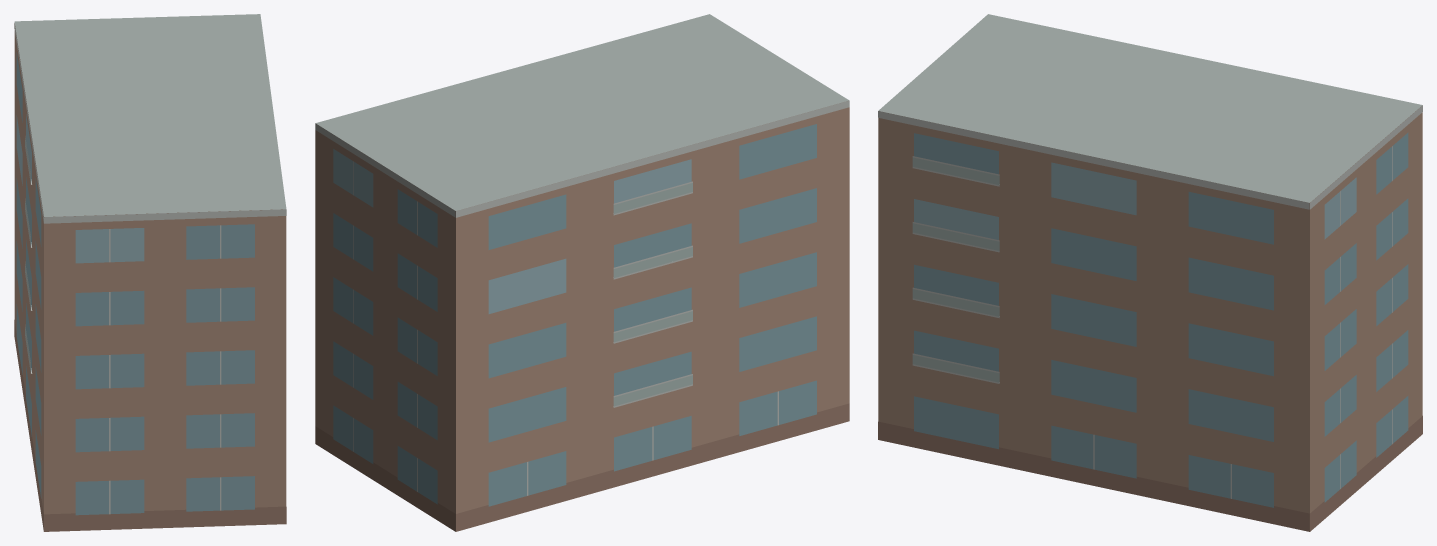
File: survey-upis-32889995.glb
3 renders of one model, left to right at view 1: azimuth 30°, elevation 25°; view 2: azimuth 150°, elevation 25°; view 3: azimuth 270°, elevation 25°, orthographic. The views are drawn at different scales.
Visible parts, largest first — view 1: survey-upis-32889995.tmp; view 2: survey-upis-32889995.tmp; view 3: survey-upis-32889995.tmp.
Boxes of the visible parts, x1=… form: survey-upis-32889995.tmp: x1=14, y1=14, x2=286, y2=531; survey-upis-32889995.tmp: x1=315, y1=14, x2=849, y2=531; survey-upis-32889995.tmp: x1=878, y1=14, x2=1422, y2=531.
Size of the model in its own units: 14.29 by 11.6 by 17.42.
